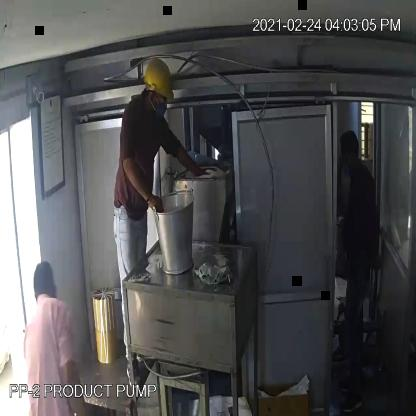helmet: (141, 56, 180, 107)
